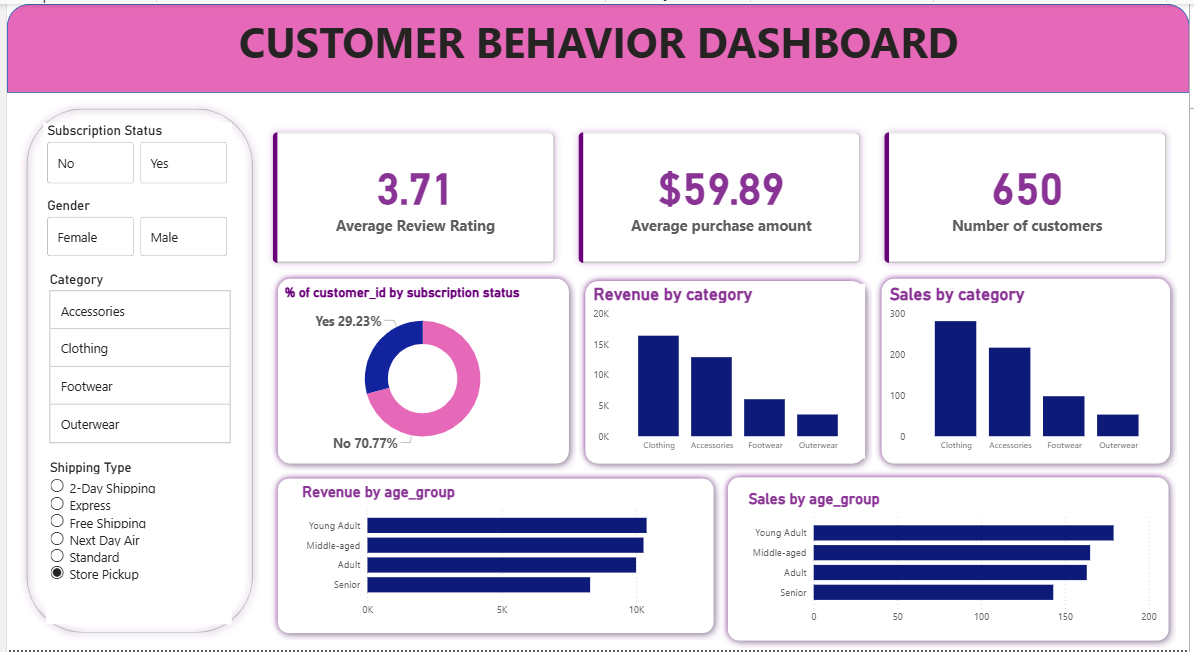

This screenshot's page, from the dashboard's own definition file:
{"tool":"powerbi","page":{"name":"Page 1","canvas":[1500,820],"ordinal":0},"visuals":[{"type":"shape","box":[334.6,593.2,570.9,214.1],"z":0},{"type":"cardVisual","fields":{"Data":["public customer.Average Review Rating","public customer.Average purchase amount","public customer.Number of customers"]},"box":[309.9,134.4,1190.5,222.9],"z":1000},{"type":"shape","box":[0,0,1500.3,112.6],"z":2000},{"type":"textbox","box":[122.2,6.4,1257.5,106.1],"z":3000},{"type":"shape","box":[335.2,339.9,387.3,253],"z":4000},{"type":"donutChart","title":"% of customer_id by subscription status","fields":{"Category":["public customer.subscription_status"],"Y":["CountNonNull(public customer.customer_id)"]},"box":[347.8,355.7,360.5,221.3],"z":5000},{"type":"shape","box":[1100.3,339.9,384.2,253],"z":6000},{"type":"shape","box":[724.9,343.1,373.1,249.8],"z":7000},{"type":"clusteredColumnChart","title":"Revenue by category","fields":{"Category":["public customer.category"],"Y":["Sum(public customer.purchase_amount)"]},"box":[738.3,355.7,349.4,221.3],"z":8000},{"type":"clusteredColumnChart","title":"Sales by category","fields":{"Category":["public customer.category"],"Y":["CountNonNull(public customer.customer_id)"]},"box":[1114.6,355.7,355.7,221.3],"z":9000},{"type":"shape","box":[15.8,123.3,305.1,683],"z":10000},{"type":"advancedSlicerVisual","fields":{"Values":["public customer.subscription_status"]},"box":[46,150.7,239.5,82.5],"z":11000},{"type":"advancedSlicerVisual","fields":{"Values":["public customer.gender"]},"box":[46,245.8,239.5,79.3],"z":12000},{"type":"advancedSlicerVisual","fields":{"Values":["public customer.category"]},"box":[49.2,339.4,239.5,223.6],"z":13000},{"type":"listSlicer","fields":{"Values":["public customer.shipping_type"]},"box":[49.2,577.3,236.3,209.3],"z":14000},{"type":"clusteredBarChart","title":"Revenue by age_group","fields":{"Y":["Sum(public customer.purchase_amount)"],"Category":["public customer.age_group"]},"box":[369.5,607.4,512.3,179.2],"z":15000},{"type":"shape","box":[905.6,591.6,577.3,225.2],"z":16000},{"type":"clusteredBarChart","title":"Sales by age_group","fields":{"Category":["public customer.age_group"],"Y":["CountNonNull(public customer.customer_id)"]},"box":[935.7,616.9,528.1,179.2],"z":17000}]}

Visuals, with their boxes in screenshot pixels (x1, y1, x2, y2), scaled from the page's 1500x820 canvas onto the 1194x652 screenshot:
shape: 266:472:721:642
cardVisual - public customer.Average Review Rating x public customer.Average purchase amount: 247:107:1193:284
shape: 0:0:1193:90
textbox: 97:5:1098:89
shape: 267:270:575:471
"% of customer_id by subscription status" donutChart: 277:283:564:459
shape: 876:270:1182:471
shape: 577:273:874:471
"Revenue by category" clusteredColumnChart: 588:283:866:459
"Sales by category" clusteredColumnChart: 887:283:1170:459
shape: 13:98:255:641
advancedSlicerVisual - public customer.subscription_status: 37:120:227:185
advancedSlicerVisual - public customer.gender: 37:195:227:258
advancedSlicerVisual - public customer.category: 39:270:230:448
listSlicer - public customer.shipping_type: 39:459:227:625
"Revenue by age_group" clusteredBarChart: 294:483:702:625
shape: 721:470:1180:649
"Sales by age_group" clusteredBarChart: 745:491:1165:633
